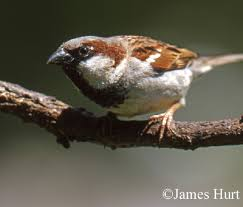hsparrow: (44, 33, 243, 149)
